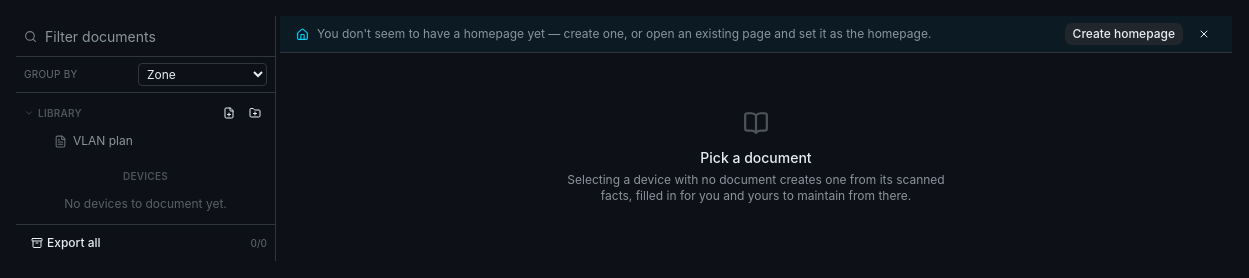
Test: DocumentationView — homepage › dismisses the banner and remembers it across visits
Step 1. Click the button named "Dismiss for two weeks" → (1204, 34), box [1192,22,1216,46]
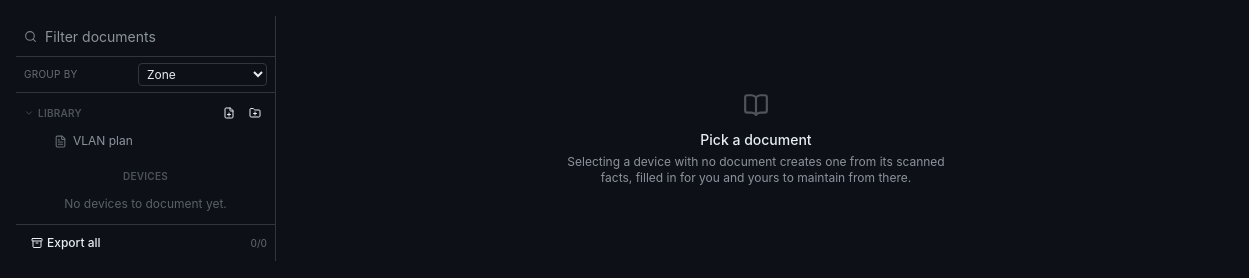
Result: the text "don.t seem to have a homepage yet" is gone
